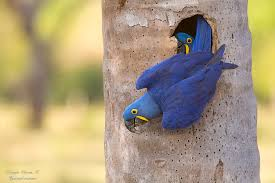guacamaya: (122, 52, 230, 138), (165, 15, 224, 67)
